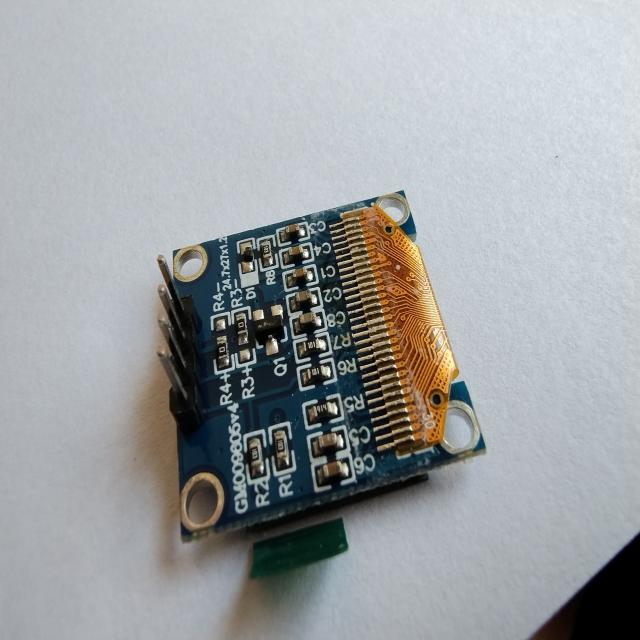oled: (152, 182, 494, 590)
